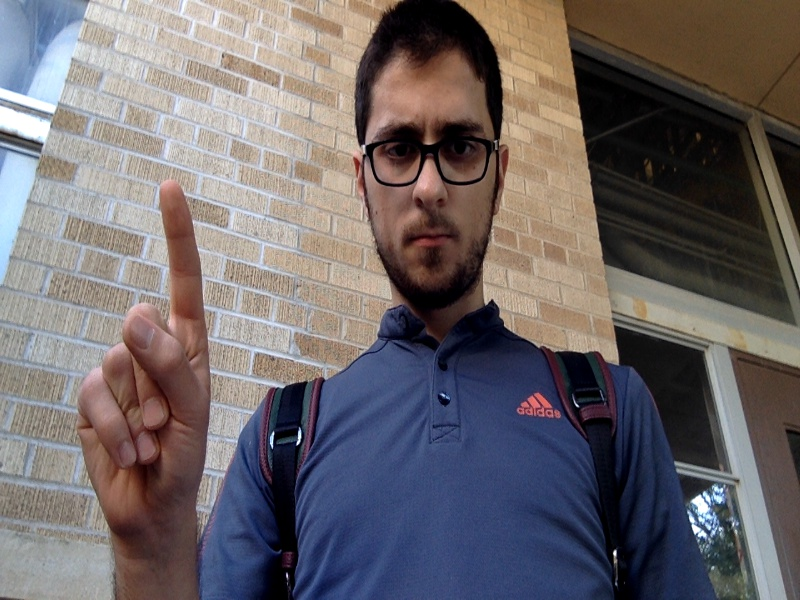1-hand: (77, 181, 210, 545)
